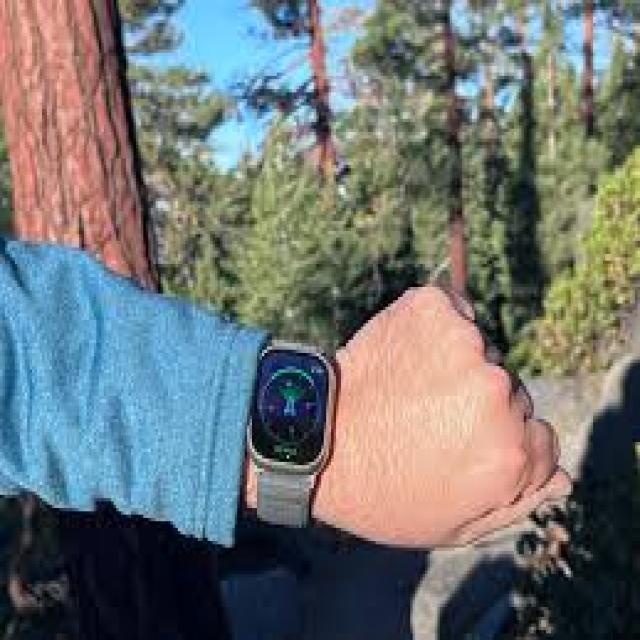objects: (247, 337, 338, 529)
